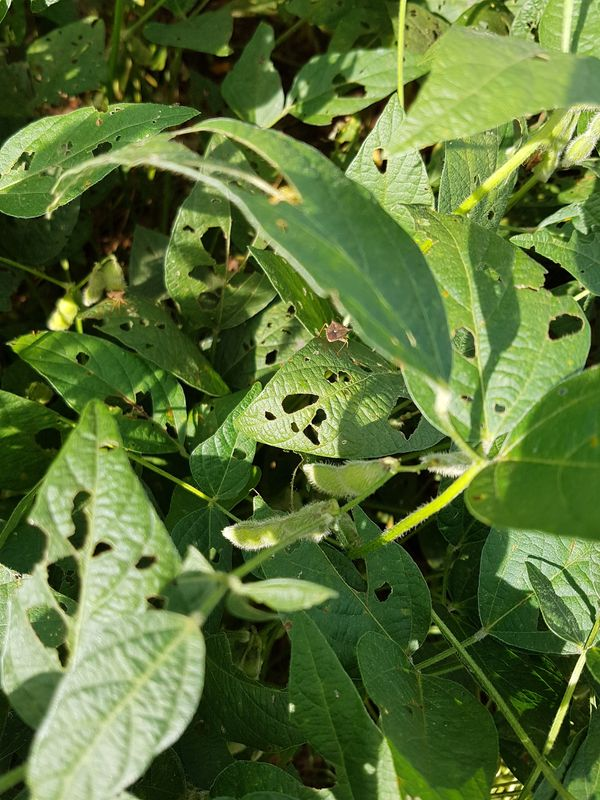Euschistus_heros_adulto: (307, 307, 361, 358), (95, 283, 135, 316), (522, 148, 545, 174)
